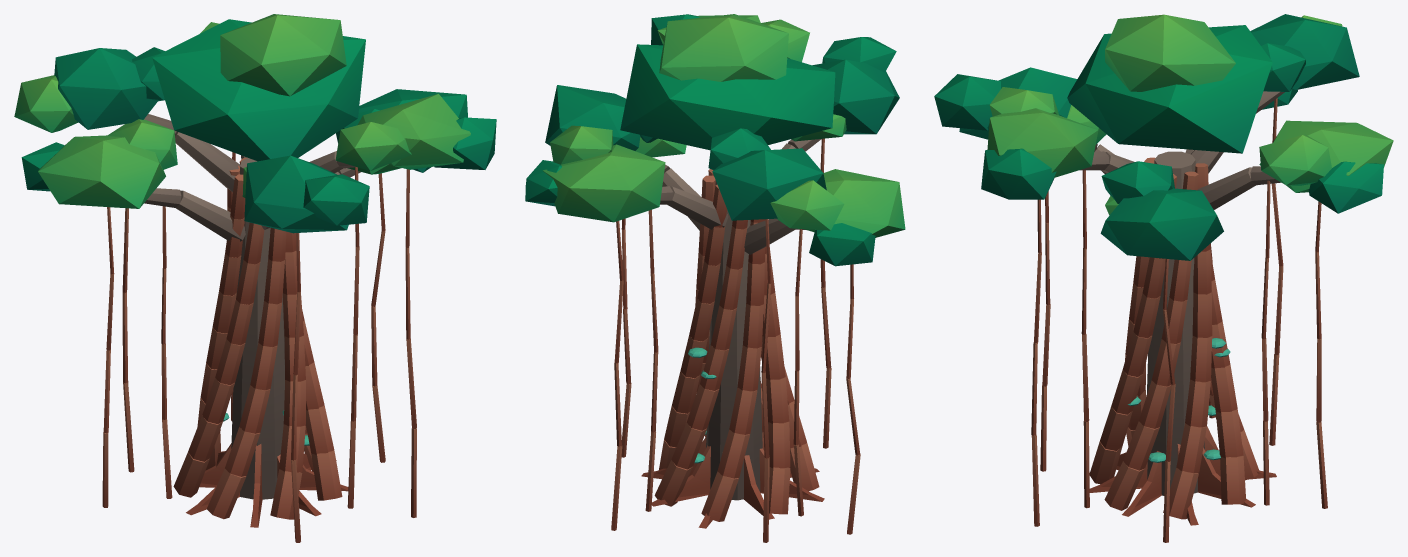
The model's file is jungle_tree_giant.glb.
3 renders of one model, left to right at view 1: azimuth 30°, elevation 25°; view 2: azimuth 150°, elevation 25°; view 3: azimuth 270°, elevation 25°, orthographic. The views are drawn at different scales.
Visible parts, largest first — view 1: jungle_tree_giant; view 2: jungle_tree_giant; view 3: jungle_tree_giant.
Boxes of the visible parts, bbox=[...] form: jungle_tree_giant: bbox=[14, 14, 496, 542]; jungle_tree_giant: bbox=[525, 14, 905, 542]; jungle_tree_giant: bbox=[934, 14, 1393, 542].
Bounding box in the file's own units: 21.51 × 25.58 × 22.22.
Materials: 1 (1 with a texture image).
